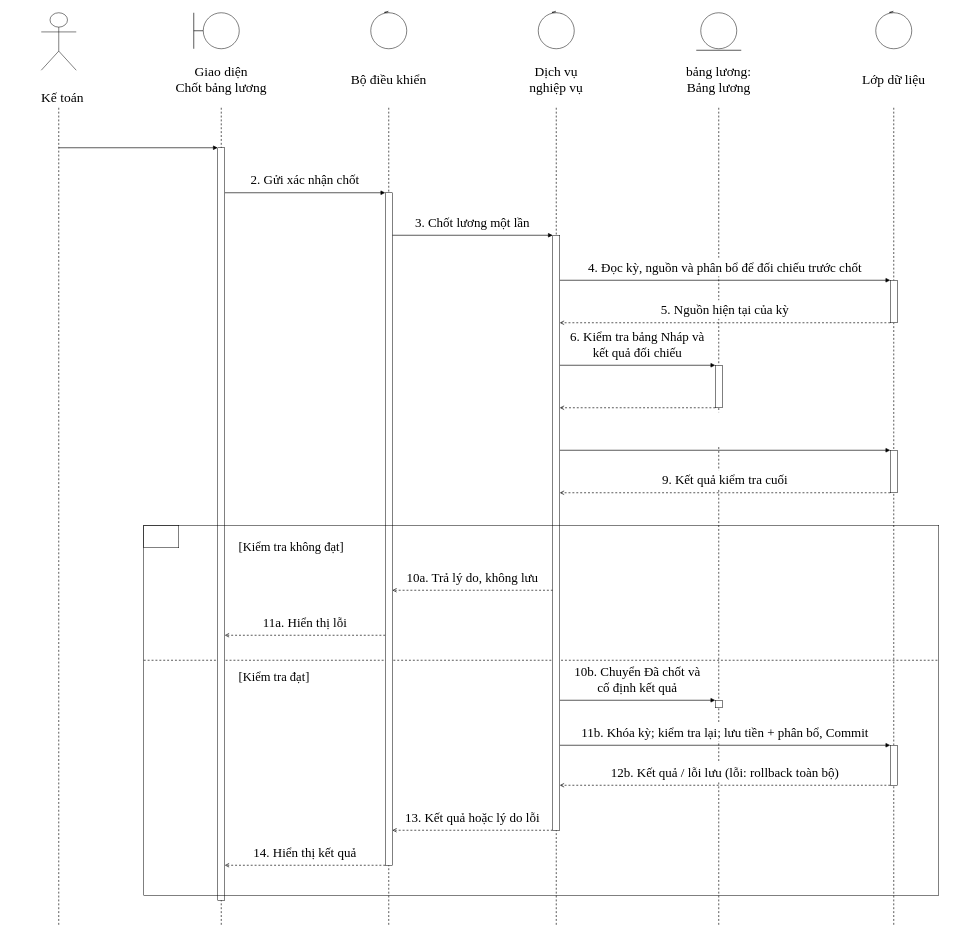
The diagram is 970 pixels wide and 935 high, and some of its shapes have lost their labels. Each missing label, with the centre of its shape:
"1. Đối chiếu bảng Nháp và xác nhận chốt" goes at (x=138, y=127).
"7. Điều kiện trạng thái" goes at (x=637, y=394).
"8. Kiểm tra nguồn, thực lĩnh, khoản chưa áp dụng và tính lại" goes at (x=724, y=429).
"alt" goes at (x=161, y=536).
